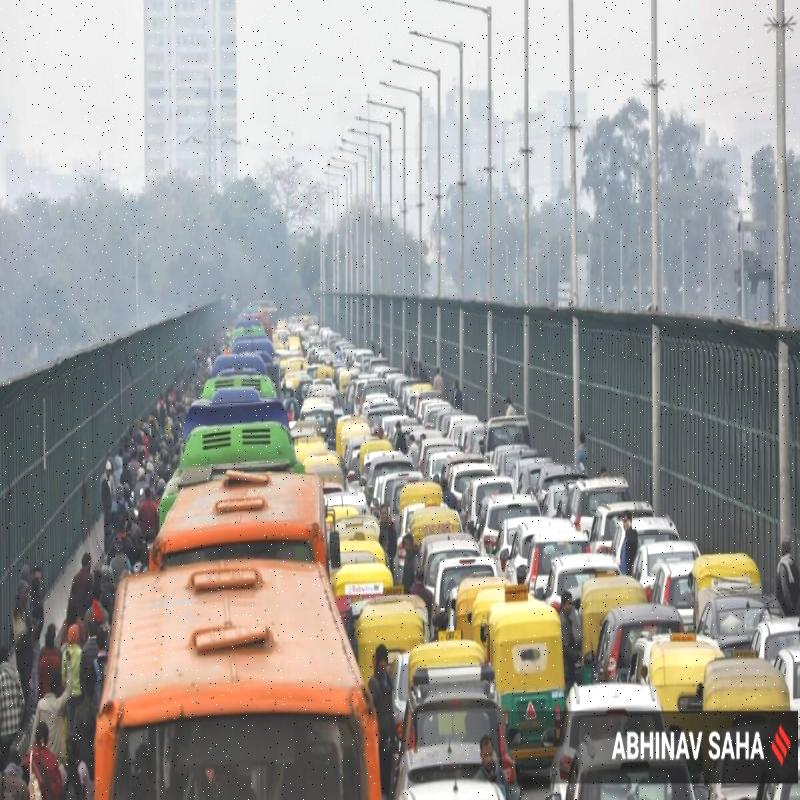auto: (476, 586, 575, 733), (647, 634, 723, 722), (358, 602, 419, 687), (696, 662, 789, 706), (699, 548, 763, 597)
bus: (112, 550, 390, 800), (162, 465, 322, 570), (179, 422, 306, 468), (193, 382, 286, 431)
